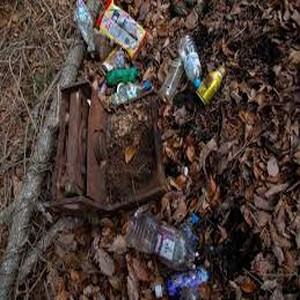Plastic: (129, 217, 201, 265), (152, 267, 210, 300), (178, 34, 206, 89), (159, 51, 186, 105), (73, 1, 98, 48)
